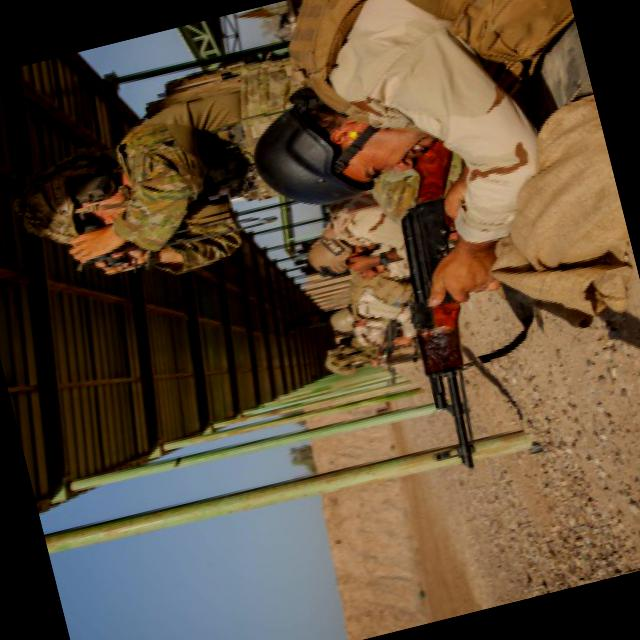long weapon: (358, 137, 540, 486)
